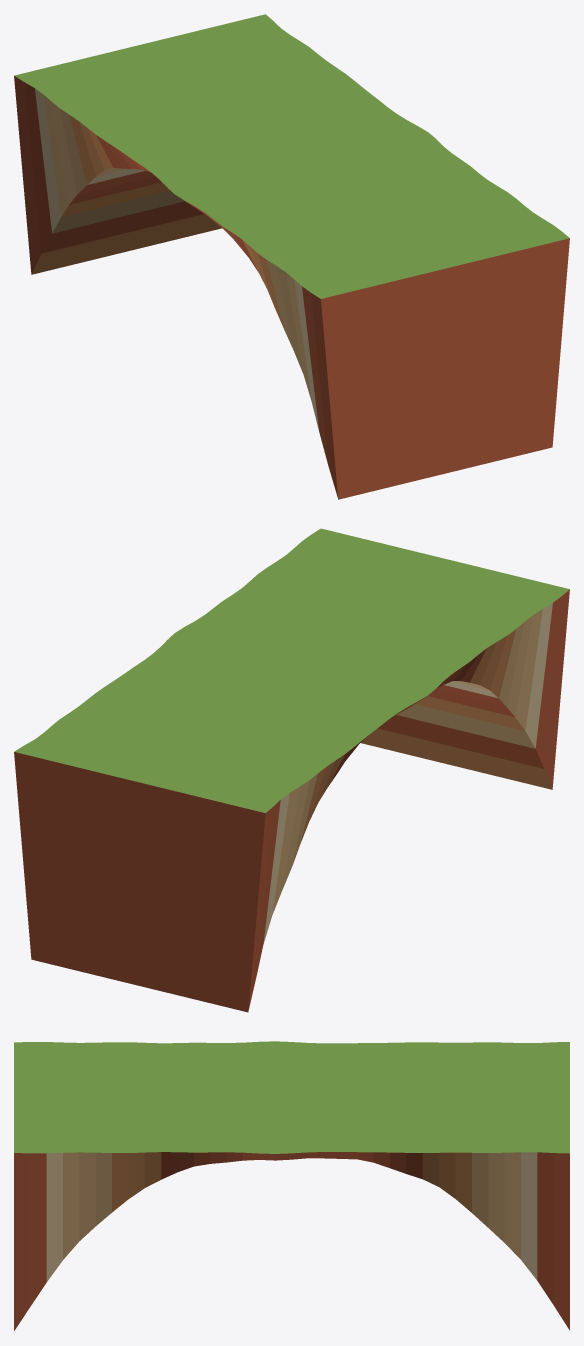
Rendered from ponte_00d3.glb.
The picture shows the model from 3 angles, top to bottom: view 1: azimuth 30°, elevation 25°; view 2: azimuth 150°, elevation 25°; view 3: azimuth 270°, elevation 25°; orthographic projection. The views are drawn at different scales.
Visible parts, largest first — view 1: ponte_00d3; view 2: ponte_00d3; view 3: ponte_00d3.
Boxes of the visible parts, x1,y1,x2,y2 form: ponte_00d3: (14, 14, 569, 499); ponte_00d3: (14, 528, 569, 1012); ponte_00d3: (14, 1041, 569, 1330).
Size of the model in its own units: 65.4 by 50.45 by 136.
